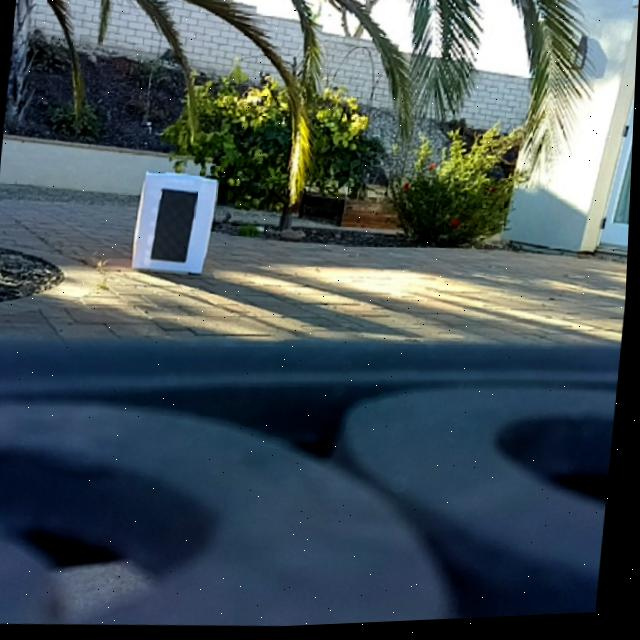led: (152, 186, 202, 267)
